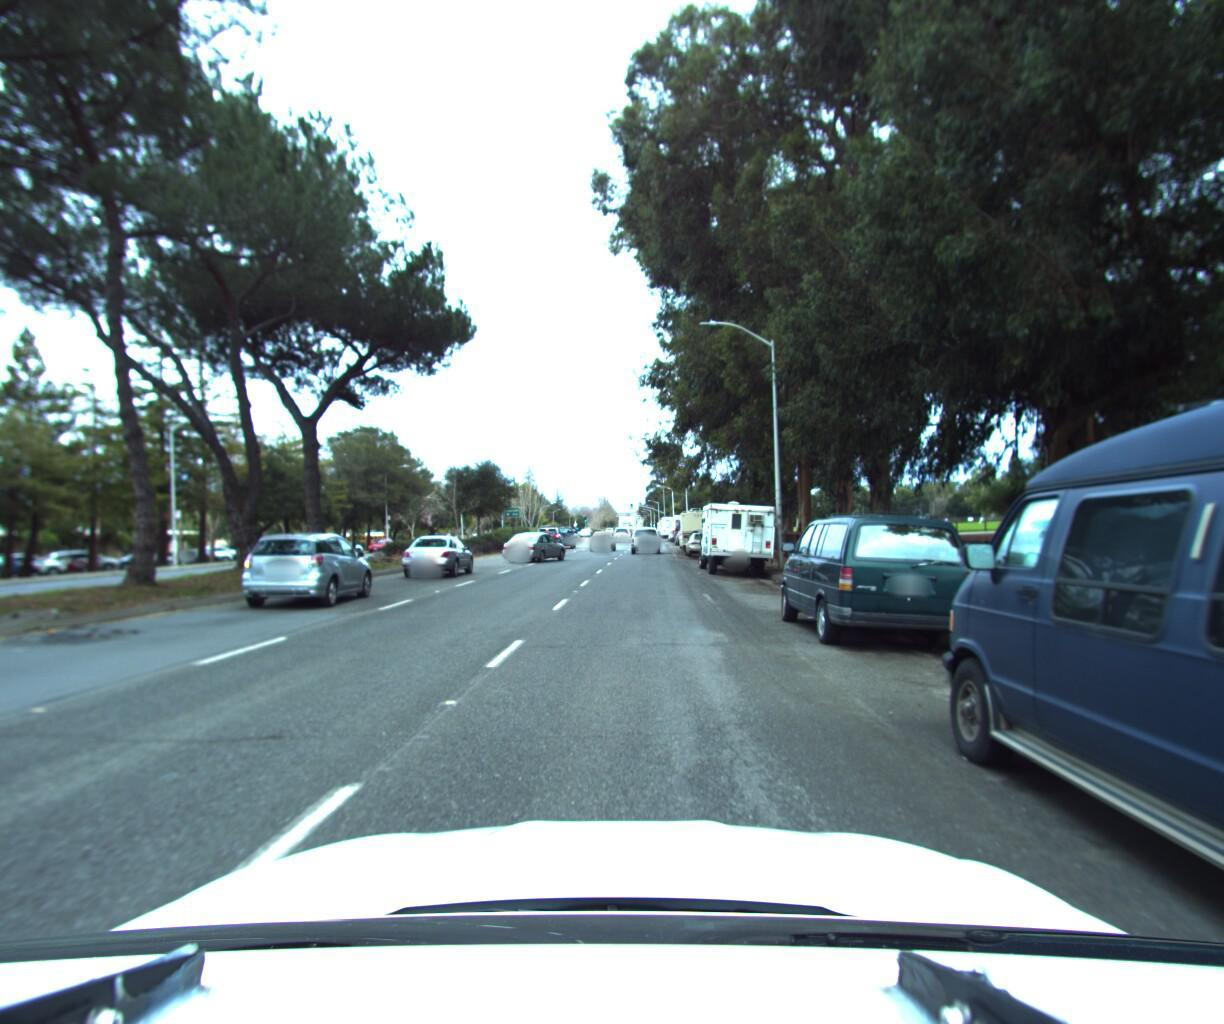car: (904, 0, 1224, 1024), (772, 493, 995, 649), (230, 520, 389, 611), (396, 526, 481, 581), (497, 528, 566, 562), (684, 525, 723, 555), (629, 519, 664, 550), (534, 522, 568, 549), (588, 523, 618, 545), (551, 521, 578, 545)
other_vehicle: (692, 492, 785, 575), (677, 505, 721, 548)
